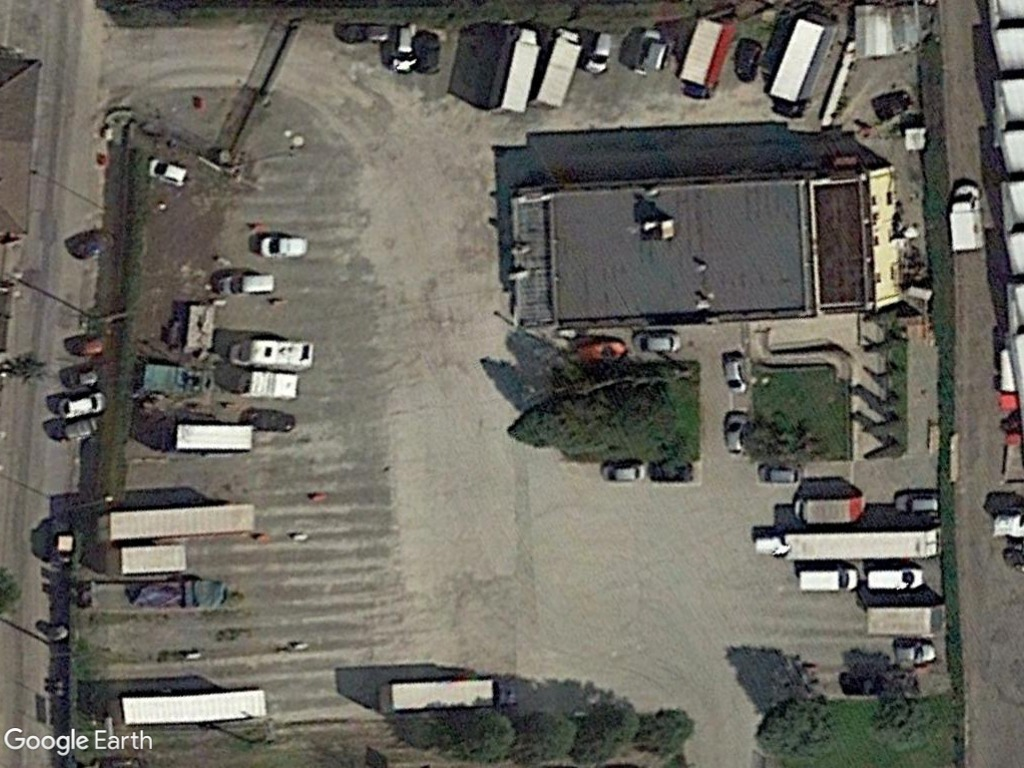car: (52, 384, 109, 422), (212, 269, 281, 298), (143, 152, 193, 189), (582, 28, 619, 77), (888, 486, 944, 518), (389, 21, 420, 78), (626, 328, 683, 357), (885, 637, 939, 667), (257, 232, 314, 260), (719, 352, 751, 398), (595, 459, 648, 485), (724, 408, 751, 459), (754, 461, 807, 486)
longvehicle: (101, 683, 275, 732), (753, 526, 942, 565), (93, 502, 268, 544), (374, 679, 523, 712), (102, 536, 195, 579), (159, 420, 261, 458), (860, 599, 951, 640)
other: (233, 366, 301, 400)
truck: (768, 14, 842, 121), (677, 14, 741, 103), (491, 21, 543, 121), (532, 22, 587, 115), (226, 336, 320, 375), (943, 179, 987, 260), (791, 490, 867, 528)
van: (792, 567, 863, 597), (861, 565, 927, 593)
